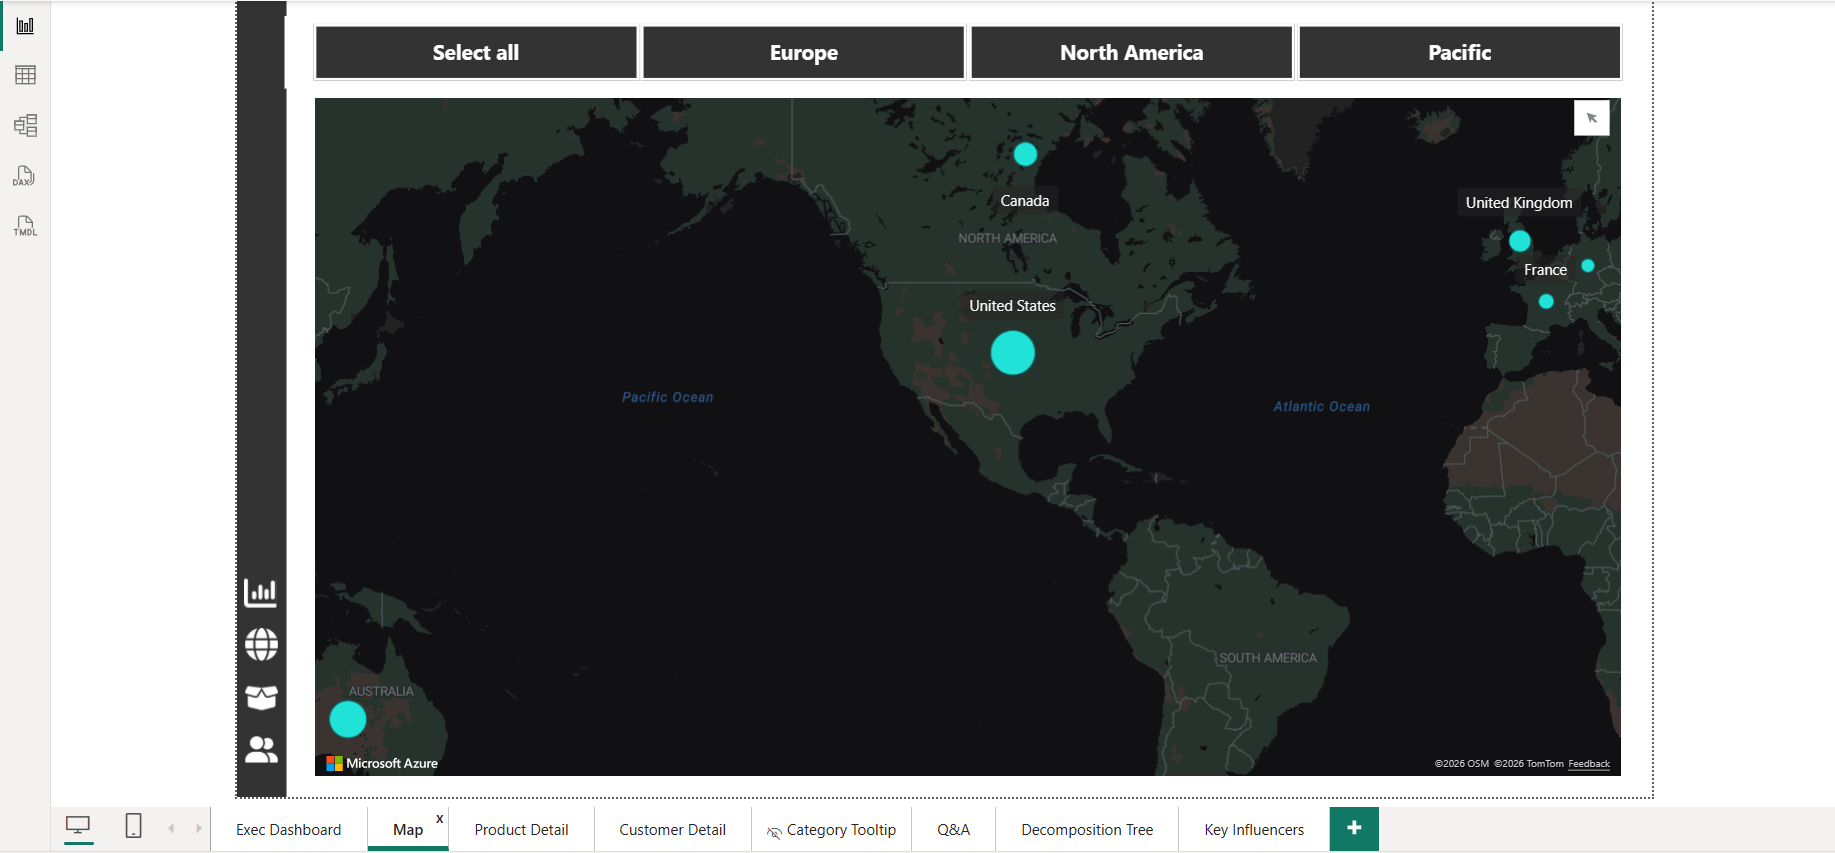

This screenshot's page, from the dashboard's own definition file:
{"tool":"powerbi","page":{"name":"Map","canvas":[1280,720],"ordinal":1},"visuals":[{"type":"shape","box":[0,0,45,720],"z":0},{"type":"actionButton","box":[2.5,516.7,45.6,37.8],"z":0,"group":"g1"},{"type":"azureMap","fields":{"Category":["Territory Lookup.Country"],"Size":["Measure Table.Total Orders"]},"box":[65.6,82.5,1191.3,622.8],"z":1000},{"type":"actionButton","box":[3.3,563.4,45.6,37.8],"z":1000,"group":"g1"},{"type":"slicer","fields":{"Values":["Territory Lookup.Continent"]},"box":[43,13.6,1234.3,65.6],"z":2000},{"type":"actionButton","box":[3.3,611.1,45.6,37.8],"z":2000,"group":"g1"},{"type":"group","id":"g1","title":"Navigation Buttons","box":[2.5,516.7,46.4,178.9],"z":3000},{"type":"actionButton","box":[3.3,657.8,45.6,37.8],"z":3000,"group":"g1"}]}

Visuals, with their boxes on the page's 1280x720 design canvas (x1, y1, x2, y2). These are canvas units, not pixel positions in the 1835x853 screenshot, which may show the page scaled, cropped or inside an application window:
shape: 0 0 45 720
actionButton: 2 517 48 554
azureMap - Territory Lookup.Country x Measure Table.Total Orders: 66 82 1257 705
actionButton: 3 563 49 601
slicer - Territory Lookup.Continent: 43 14 1277 79
actionButton: 3 611 49 649
"Navigation Buttons" group: 2 517 49 696
actionButton: 3 658 49 696
